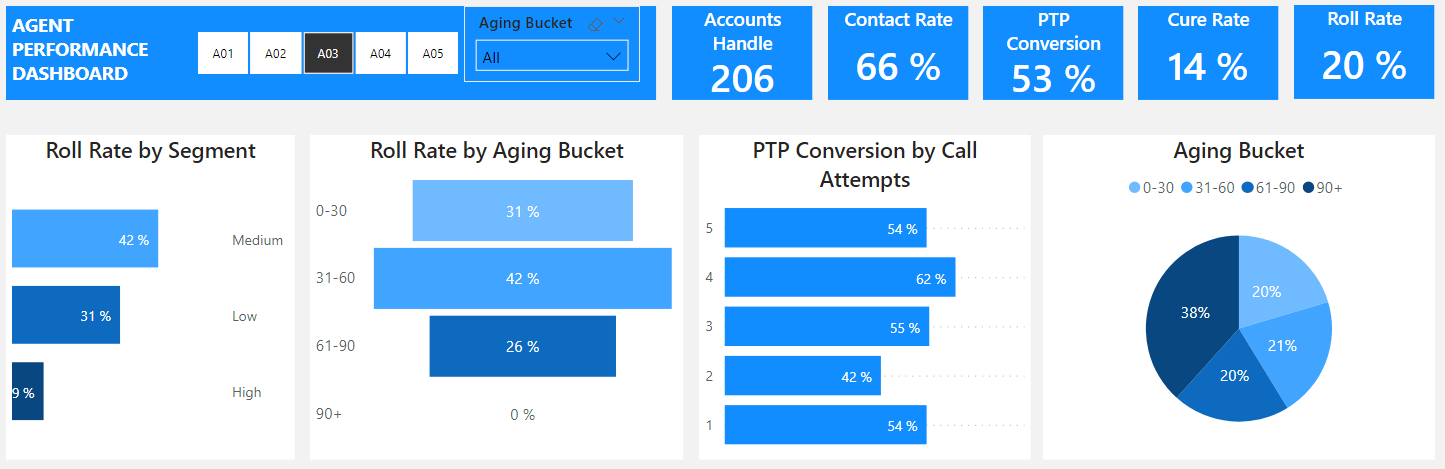

The page's visual inventory and layout, read from the dashboard file:
{"tool":"powerbi","page":{"name":"Page 1","canvas":[1280,500],"ordinal":0},"visuals":[{"type":"card","title":"Contact Rate","fields":{"Values":["accounts.Contact Rate"]},"box":[735.5,20,121.4,81.3],"z":0},{"type":"card","title":"PTP Conversion","fields":{"Values":["accounts.PTP Conversion"]},"box":[869.5,20,121.4,81.3],"z":1000},{"type":"card","title":"Cure Rate","fields":{"Values":["accounts.Cure Rate"]},"box":[1003.5,20,121.4,81.3],"z":2000},{"type":"card","title":"Roll Rate","fields":{"Values":["accounts.Roll Rate"]},"box":[1137.6,18.9,121.4,81],"z":3000},{"type":"barChart","fields":{"Category":["accounts.Segment"],"Y":["accounts.Roll Rate"]},"box":[26.7,131,249,280.1],"z":4000},{"type":"pieChart","title":"Aging Bucket","fields":{"Category":["accounts.Aging_Bucket"],"Y":["CountNonNull(contact_activity.Customer_ID)"]},"box":[921.5,131,337.5,280.1],"z":5000},{"type":"shape","box":[26.7,19.9,561.3,81.3],"z":5500},{"type":"card","title":"Accounts Handle","fields":{"Values":["Count(contact_activity.Customer_ID)"]},"box":[601.4,20,121.4,81.3],"z":6000},{"type":"funnel","title":"Roll Rate by Aging Bucket","fields":{"Category":["accounts.Aging_Bucket"],"Y":["accounts.Roll Rate"]},"box":[289.3,131,321.9,280.1],"z":7000},{"type":"barChart","title":"PTP Conversion by Call Attempts","fields":{"Category":["contact_activity.Call_Attempts"],"Y":["accounts.PTP Conversion"]},"box":[624.9,131,286,280.1],"z":8000},{"type":"textbox","box":[26.7,20.1,171.2,81.7],"z":10500},{"type":"slicer","fields":{"Values":["contact_activity.Agent_ID"]},"box":[166.8,35.7,274.3,49.6],"z":10501},{"type":"slicer","fields":{"Values":["accounts.Aging_Bucket"]},"box":[421.6,20.1,151.7,65.2],"z":10502}]}

Visuals, with their boxes on the page's 1280x500 design canvas (x1, y1, x2, y2). These are canvas units, not pixel positions in the 1445x469 screenshot, which may show the page scaled, cropped or inside an application window:
"Contact Rate" card: l=736, t=20, r=857, b=101
"PTP Conversion" card: l=870, t=20, r=991, b=101
"Cure Rate" card: l=1004, t=20, r=1125, b=101
"Roll Rate" card: l=1138, t=19, r=1259, b=100
barChart - accounts.Segment x accounts.Roll Rate: l=27, t=131, r=276, b=411
"Aging Bucket" pieChart: l=922, t=131, r=1259, b=411
shape: l=27, t=20, r=588, b=101
"Accounts Handle" card: l=601, t=20, r=723, b=101
"Roll Rate by Aging Bucket" funnel: l=289, t=131, r=611, b=411
"PTP Conversion by Call Attempts" barChart: l=625, t=131, r=911, b=411
textbox: l=27, t=20, r=198, b=102
slicer - contact_activity.Agent_ID: l=167, t=36, r=441, b=85
slicer - accounts.Aging_Bucket: l=422, t=20, r=573, b=85
